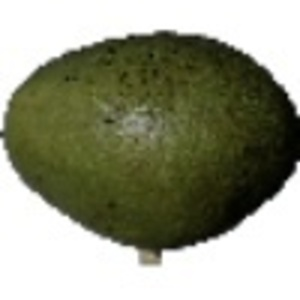abacate: (1, 26, 299, 250)
